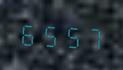five: (39, 18, 59, 49), (60, 19, 80, 50)
seven: (81, 21, 101, 52)
six: (18, 17, 38, 48)
